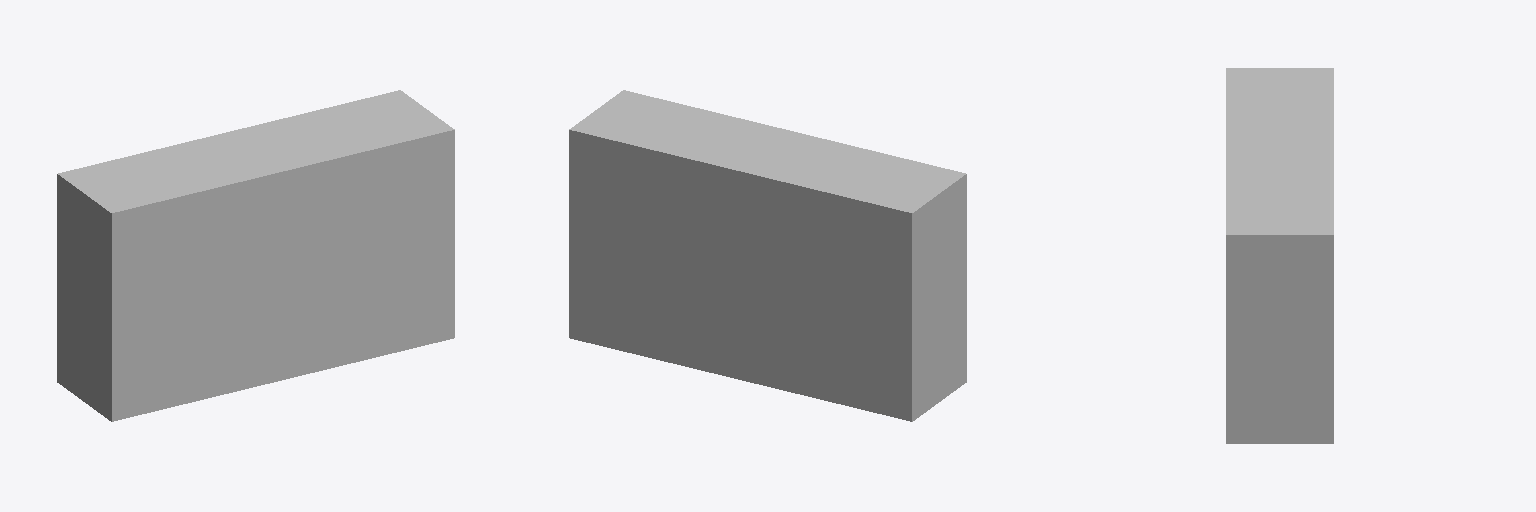
Rendered from fire.obj.
The picture shows the model from 3 angles: view 1: azimuth 30°, elevation 25°; view 2: azimuth 150°, elevation 25°; view 3: azimuth 270°, elevation 25°; orthographic projection.
Visible parts, largest first — view 1: Smoke_Domain_Cube.001; view 2: Smoke_Domain_Cube.001; view 3: Smoke_Domain_Cube.001.
Boxes of the visible parts, box(x1,y1,x2,y2) form: Smoke_Domain_Cube.001: box(57, 90, 454, 421); Smoke_Domain_Cube.001: box(569, 90, 966, 421); Smoke_Domain_Cube.001: box(1226, 68, 1333, 443).
Size of the model in its own units: 10.31 by 5.99 by 2.82.